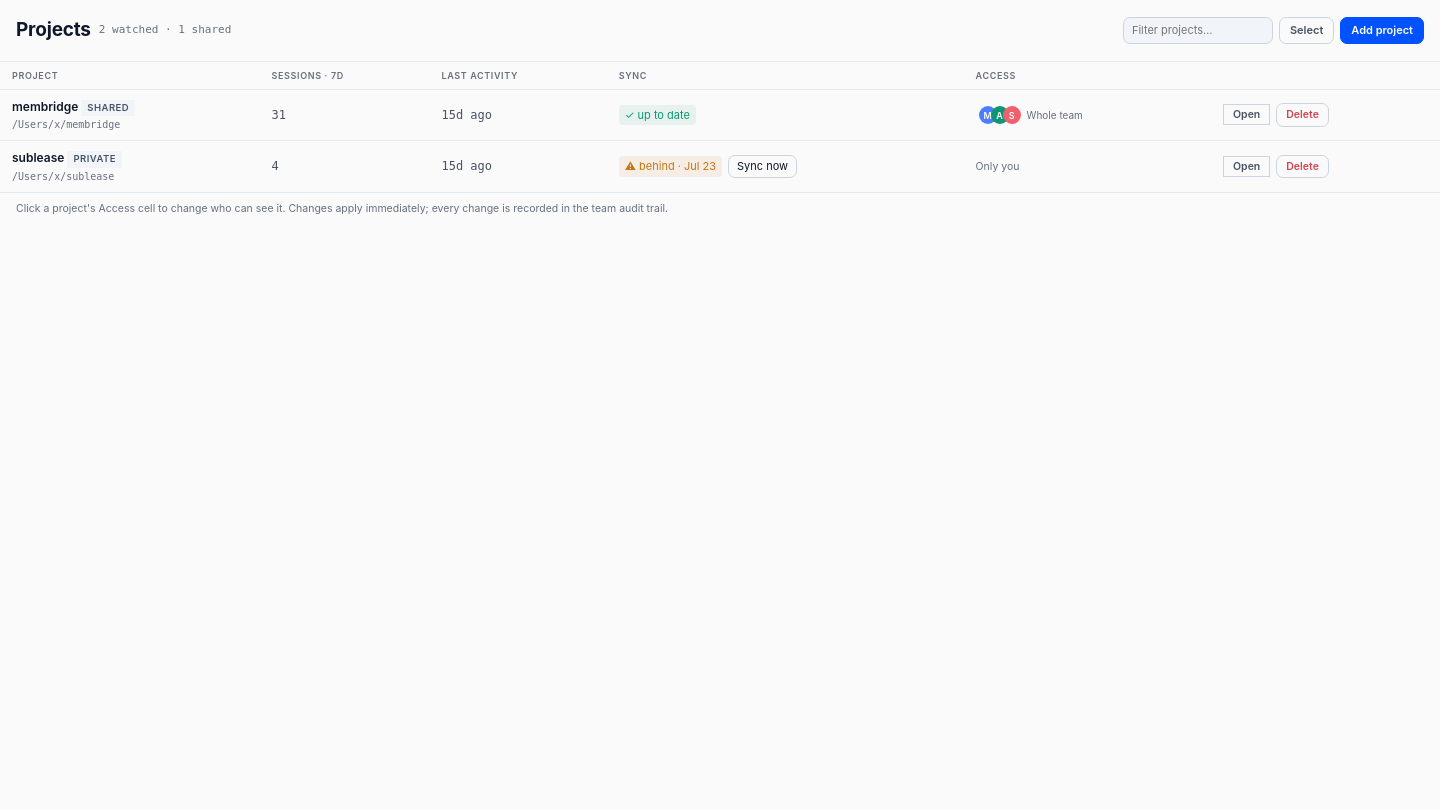
Access popover › gives an admin toggles plus Everyone / No one shortcuts
The width and height of the screenshot is (1440, 810).
Click the button with aria-label "access for membridge".
click(1034, 115)  # box [976, 103, 1092, 127]
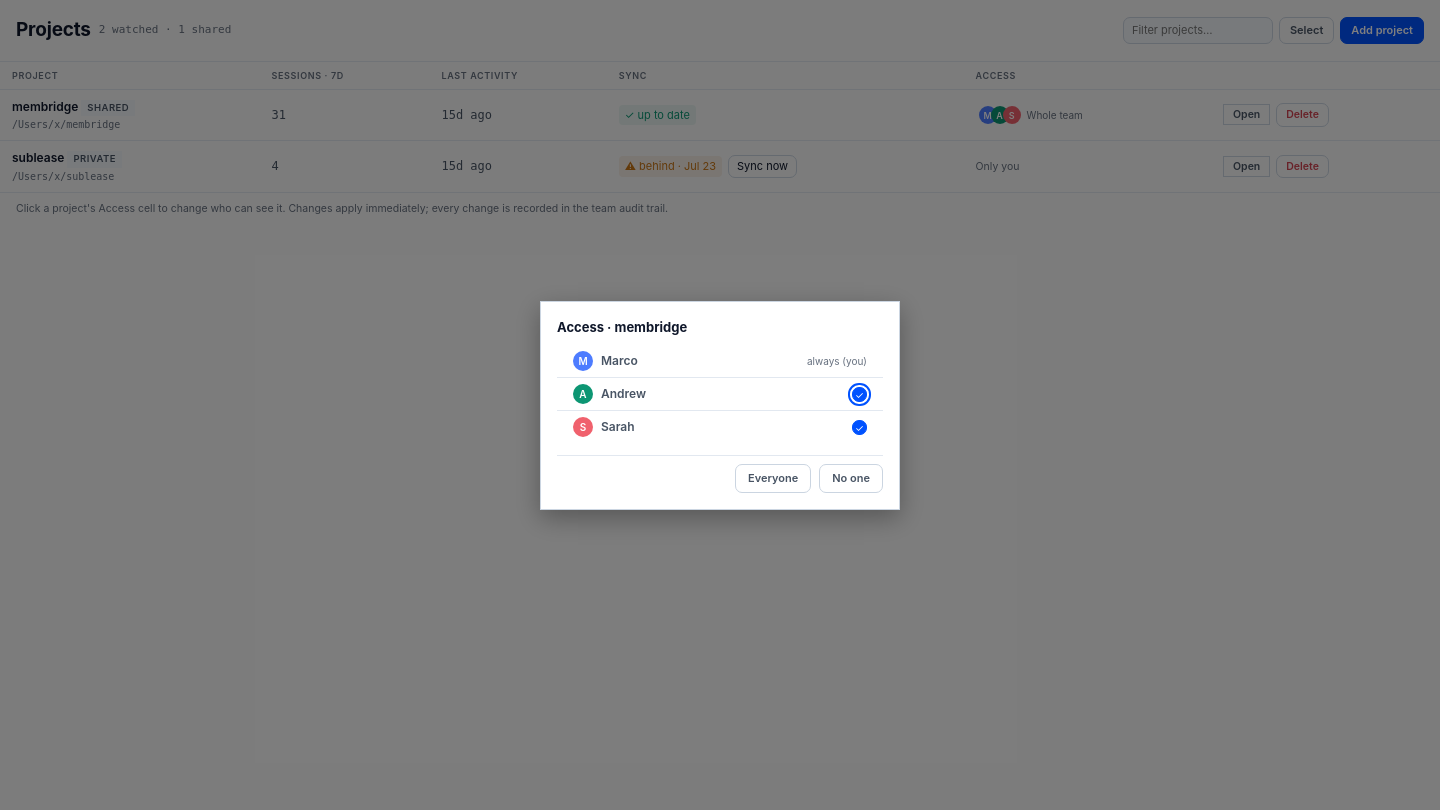
Check: the checkbox named "Andrew can see this project" is shown, box [852, 386, 867, 402]
Check: the button "Everyone" is shown, box [735, 464, 811, 492]
Check: the button "No one" is shown, box [819, 464, 883, 492]
